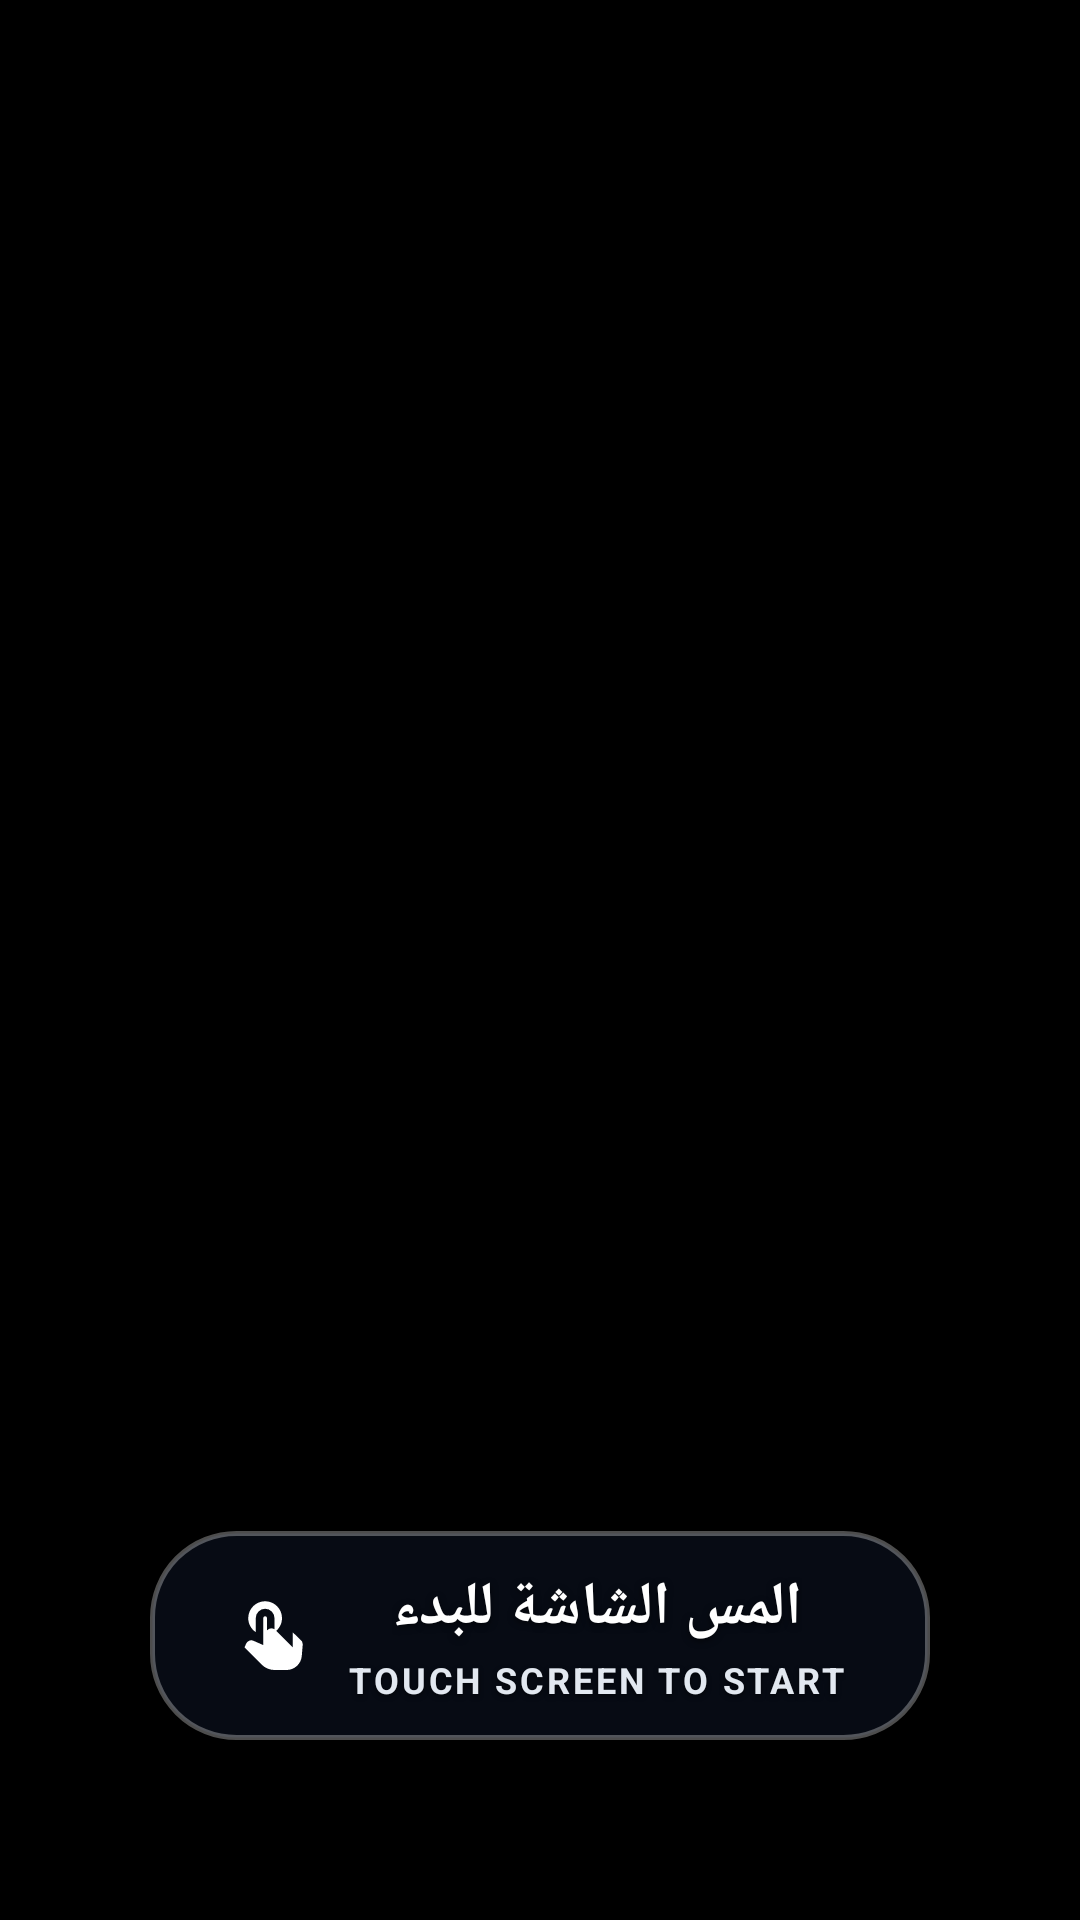

Screen size 1080px x 1920px. Icon name, then its box in pixels as (x1, y1, x2, y2):
touch prompt: (244, 1601, 303, 1670)
